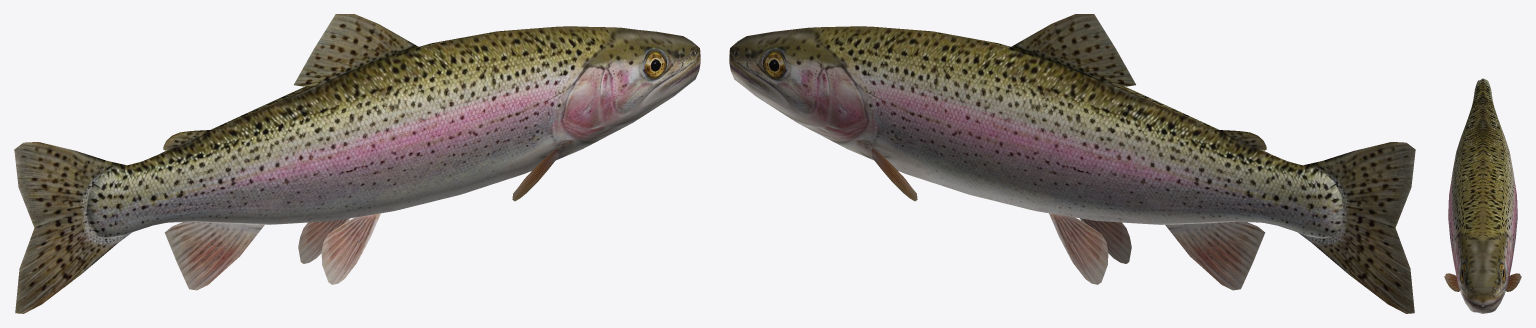
Rendered from RainbowTrout.glb.
The picture shows the model from 3 angles, left to right: view 1: azimuth 30°, elevation 25°; view 2: azimuth 150°, elevation 25°; view 3: azimuth 270°, elevation 25°; orthographic projection. The views are drawn at different scales.
Visible parts, largest first — view 1: RainbowTrout; view 2: RainbowTrout; view 3: RainbowTrout.
Part boxes in pixels (box(x1,y1,x2,y2)): RainbowTrout: box(14, 14, 700, 313); RainbowTrout: box(729, 14, 1415, 313); RainbowTrout: box(1444, 78, 1521, 313).
Size of the model in its own units: 2 by 0.7136 by 0.2759.
Materials: 1 (1 with a texture image).
